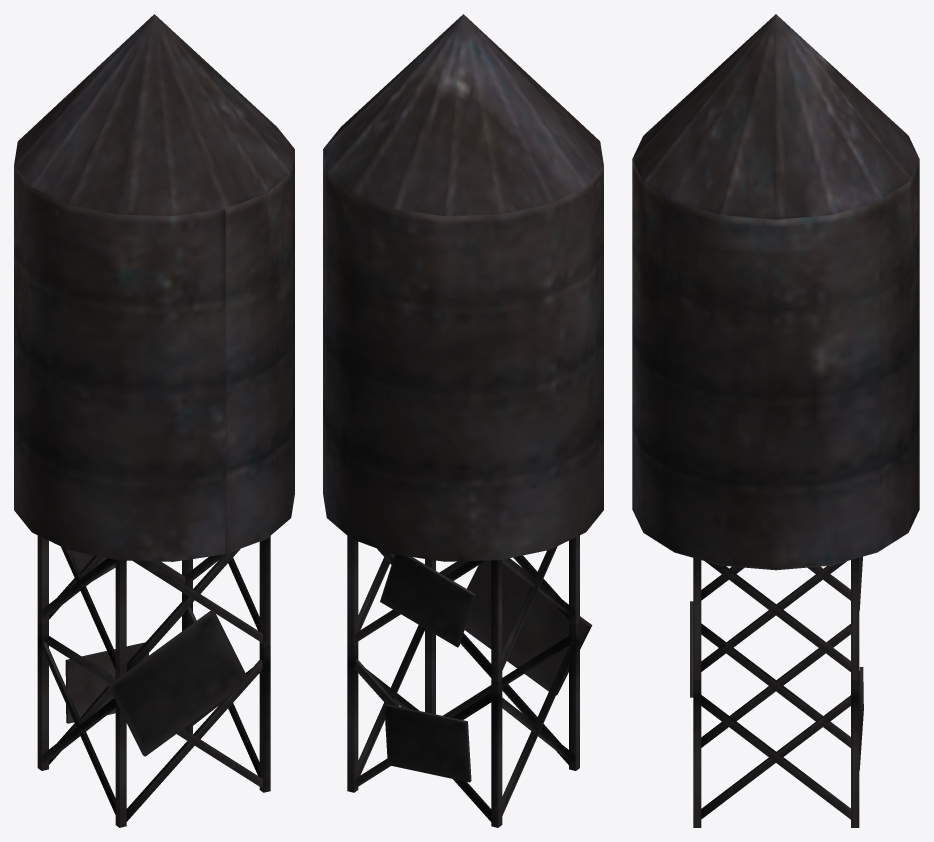
File: Roof_WaterConteiner.FBX
3 renders of one model, left to right at view 1: azimuth 30°, elevation 25°; view 2: azimuth 150°, elevation 25°; view 3: azimuth 270°, elevation 25°, orthographic.
Parts seen in each view (by area): view 1: Roof_WaterConteiner; view 2: Roof_WaterConteiner; view 3: Roof_WaterConteiner.
Boxes of the visible parts, box(x1,y1,x2,y2) form: Roof_WaterConteiner: box(14, 14, 294, 827); Roof_WaterConteiner: box(323, 14, 603, 827); Roof_WaterConteiner: box(632, 14, 919, 827).
Bounding box in the file's own units: 7 × 20.88 × 7.
